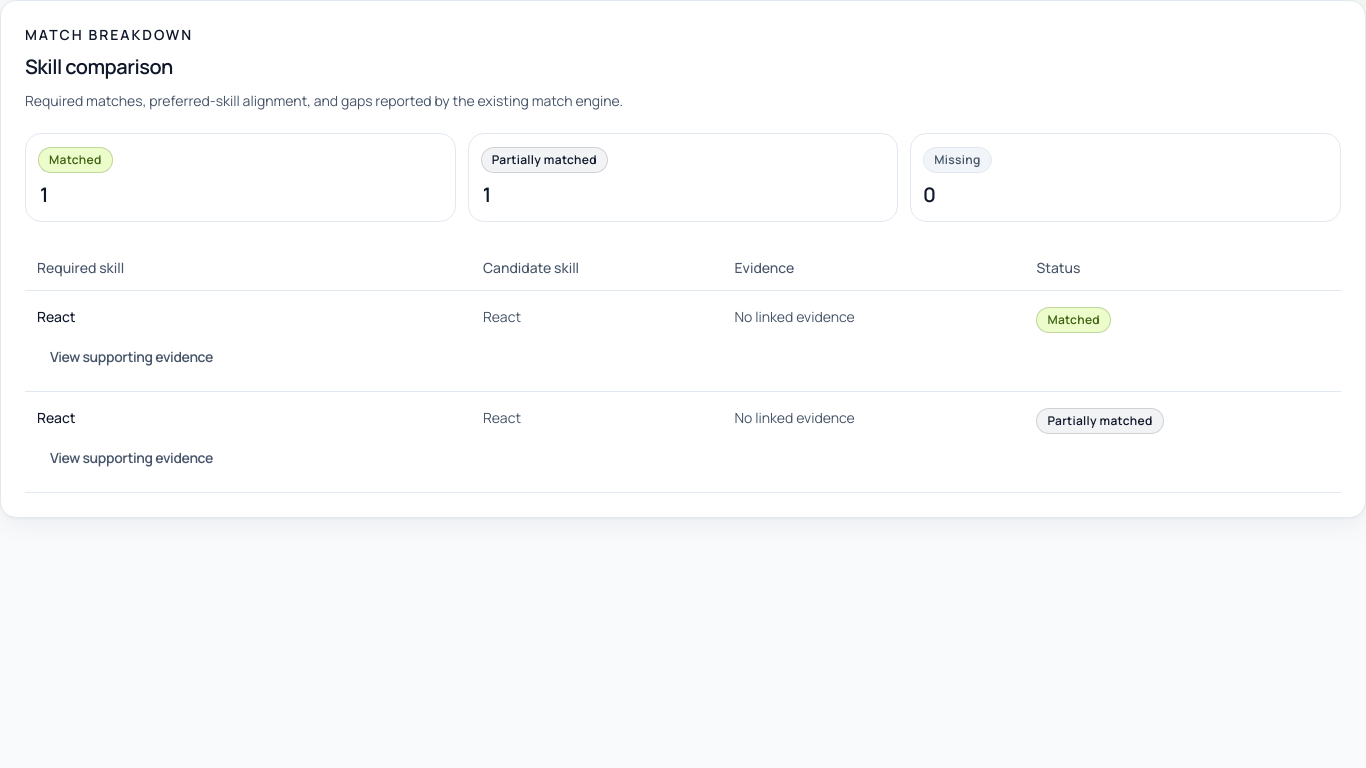
Test: SkillsComparisonCard explainability › isolates duplicate skill names across required and preferred groups
Click the 1st button "View supporting evidence".
click(132, 357)  # box x1=37 y1=339 x2=226 y2=375
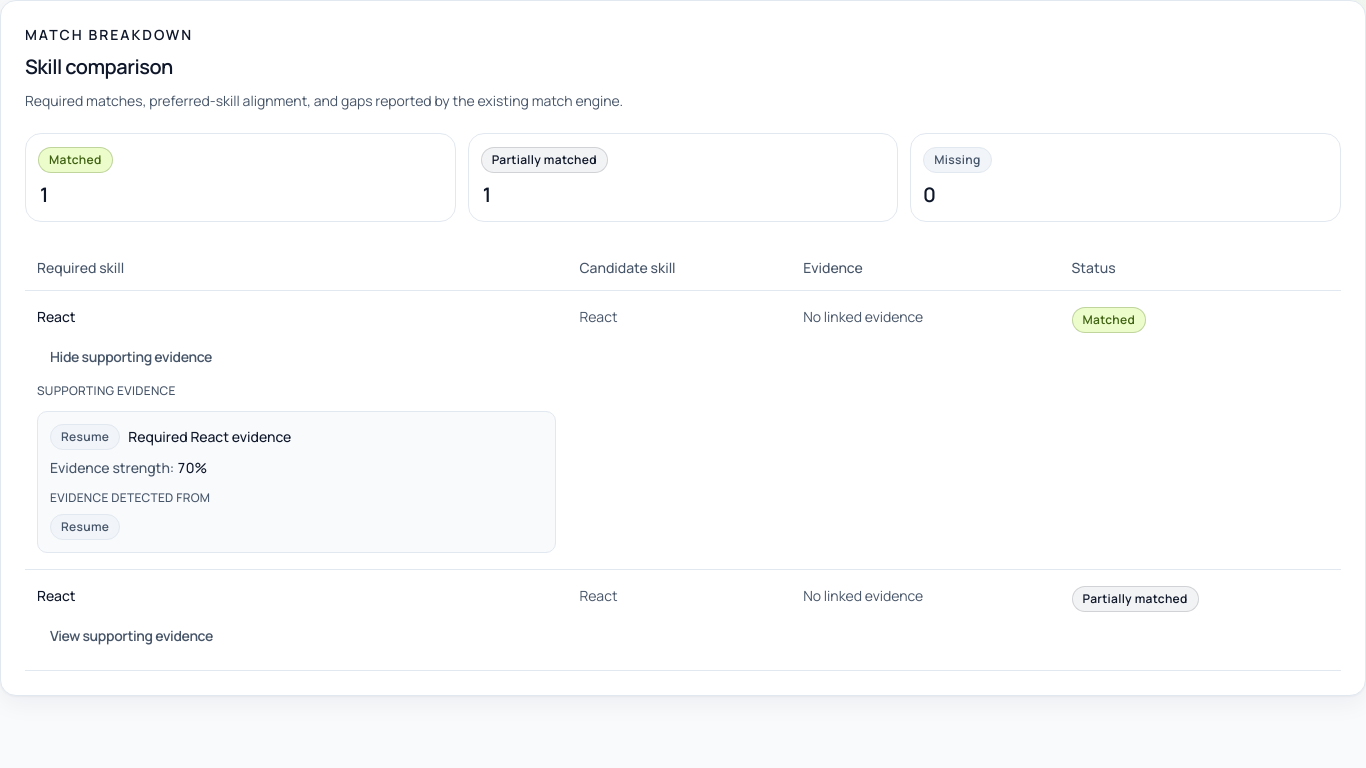
Expected: the text "Preferred React evidence" is not shown
Expected: the button named "View supporting evidence" is expanded, x1=37 y1=339 x2=225 y2=375
Expected: the text "Required React evidence" is shown, x1=128 y1=427 x2=291 y2=447
Click the button "View supporting evidence".
click(132, 636)  # box x1=37 y1=618 x2=226 y2=654
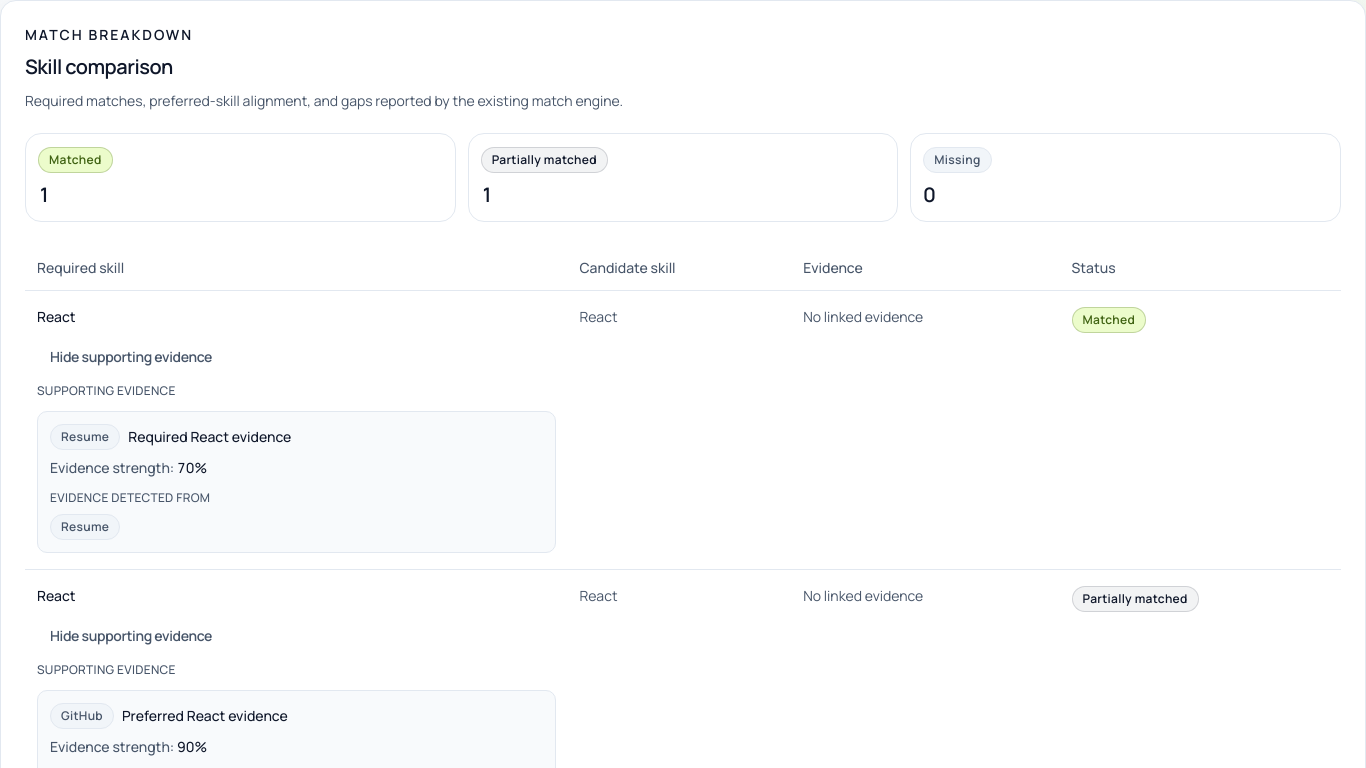
Expected: the text "Required React evidence" is shown, x1=128 y1=427 x2=291 y2=447
Expected: the button named "View supporting evidence" is expanded, x1=37 y1=618 x2=225 y2=654
Expected: the text "Preferred React evidence" is shown, x1=122 y1=706 x2=288 y2=726
